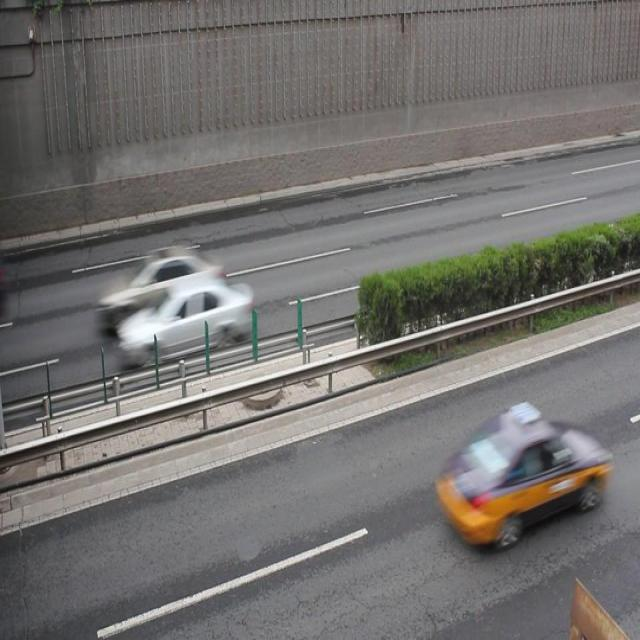car: (436, 406, 601, 546), (116, 275, 251, 366), (97, 244, 223, 331)
